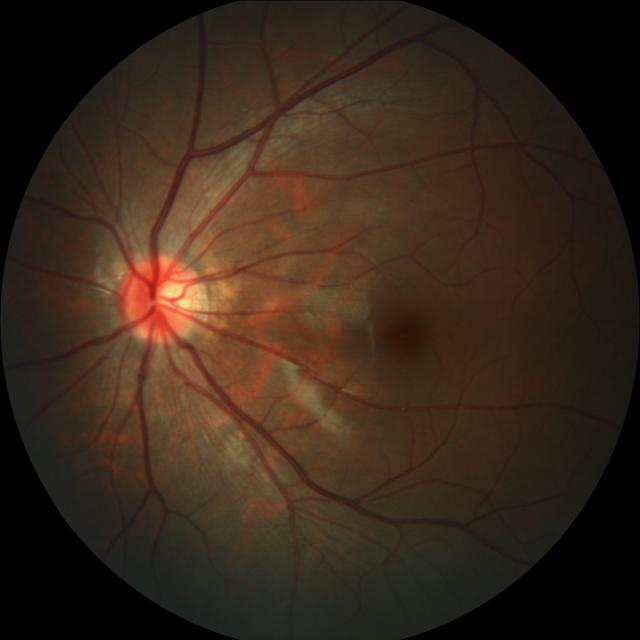OC: (149, 275, 190, 319)
OD: (124, 255, 203, 341)
